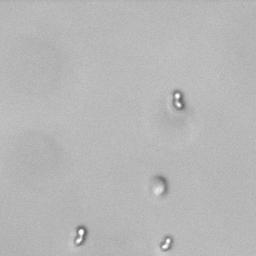budding: (171, 90, 185, 111), (73, 226, 86, 246), (160, 236, 173, 251)
